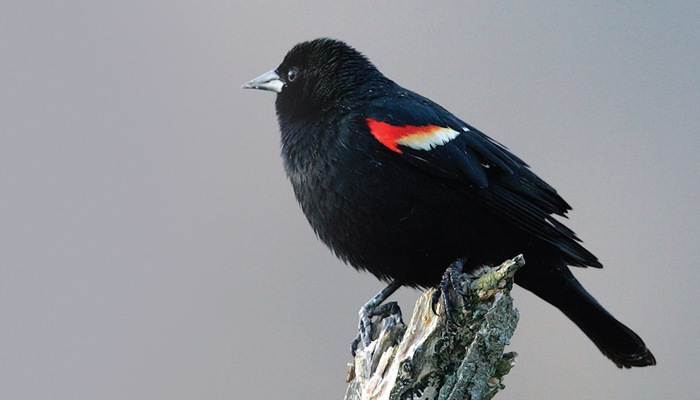bird: (273, 42, 610, 327)
